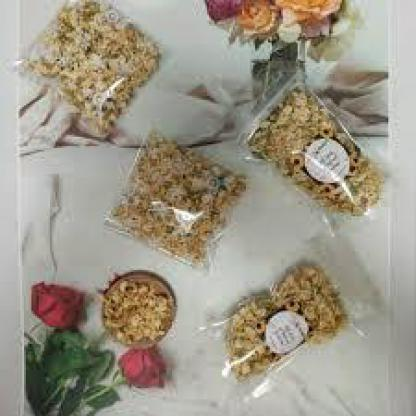Melati: (280, 12, 299, 51)
